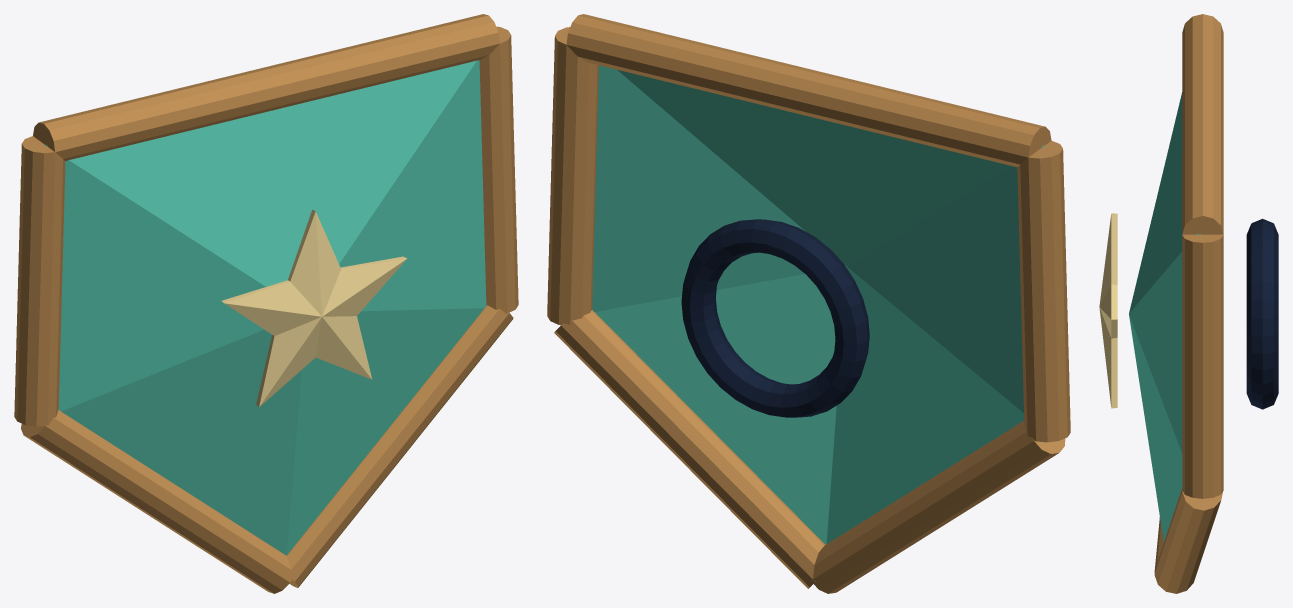
File: Item_shared_shield.fbx
The picture shows the model from 3 angles, left to right: view 1: azimuth 30°, elevation 25°; view 2: azimuth 150°, elevation 25°; view 3: azimuth 270°, elevation 25°; orthographic projection. The views are drawn at different scales.
Parts seen in each view (by area): view 1: Item_shared_shield.Mesh; view 2: Item_shared_shield.Mesh; view 3: Item_shared_shield.Mesh.
Boxes of the visible parts, left/top/right/bottom form: Item_shared_shield.Mesh: left=14, top=14, right=518, bottom=593; Item_shared_shield.Mesh: left=547, top=14, right=1070, bottom=593; Item_shared_shield.Mesh: left=1099, top=14, right=1278, bottom=593.
Size of the model in its own units: 67.2 by 65.6 by 22.5.
